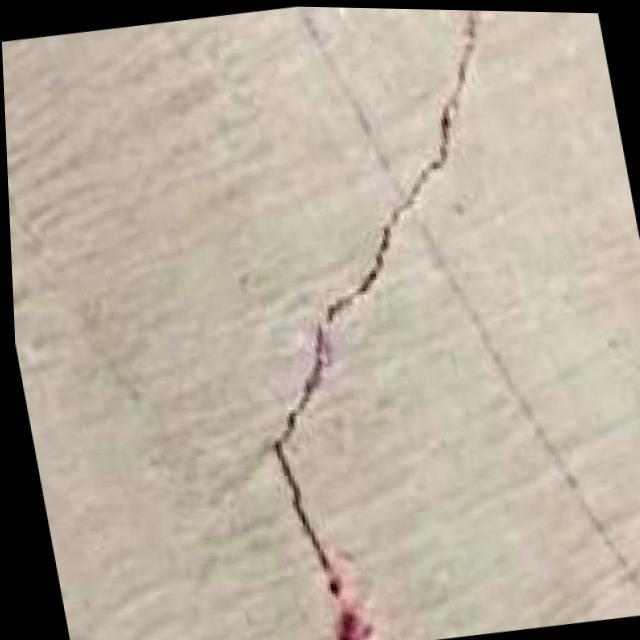Crack: (174, 3, 626, 640)
